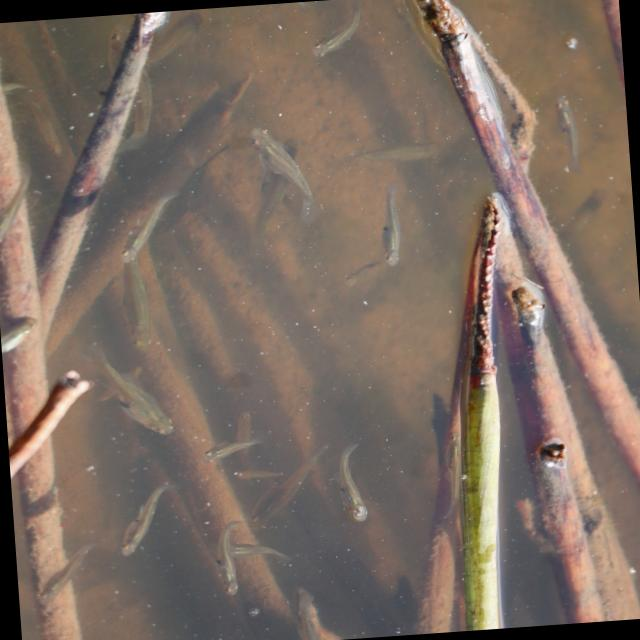Sivrisinek Baligi: (84, 338, 184, 437), (238, 444, 334, 533), (241, 122, 329, 218), (104, 241, 167, 353), (109, 190, 192, 264), (100, 482, 182, 556), (328, 435, 388, 523), (24, 542, 100, 606), (301, 0, 378, 61), (197, 519, 256, 597), (368, 180, 413, 270), (196, 433, 262, 462)
